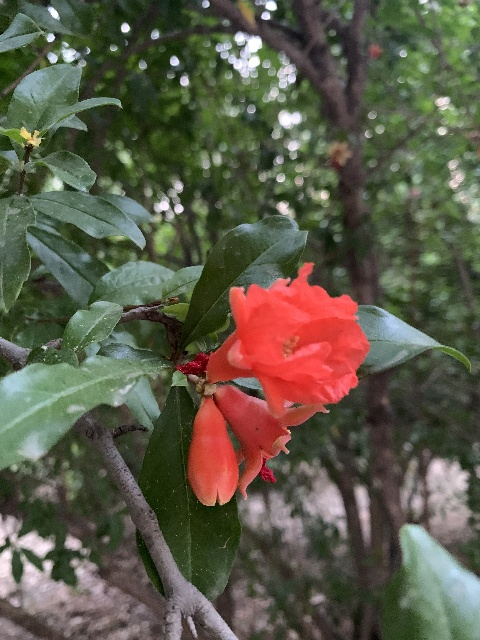bud: (187, 398, 236, 506)
flower: (207, 261, 369, 413), (214, 385, 328, 500)
